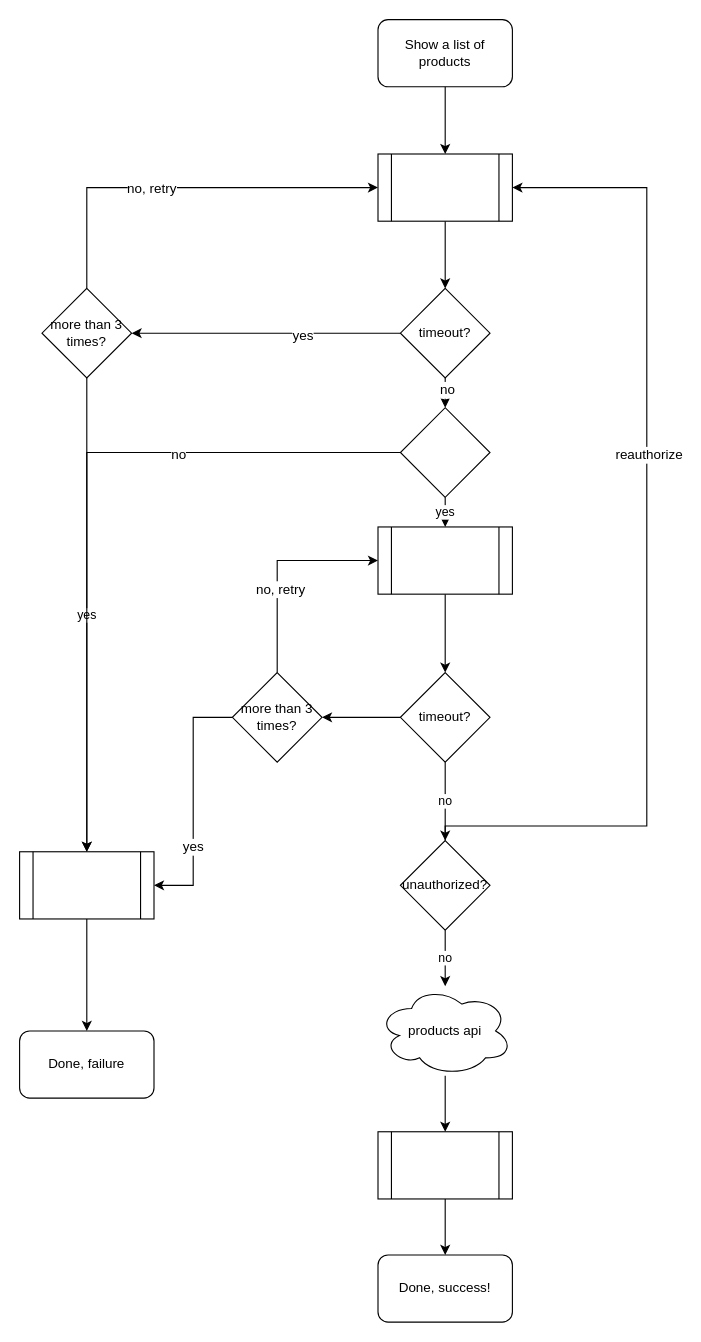
Some shapes in this 701 by 1342 pixel diagram are drawn without their labels. The shapes that lost their labels are listed below. From the top down, each one's centre as x and y in pixels, then its label:
At point (444, 187): "Authorize".
At point (444, 452): "authorized?".
At point (444, 560): "Get Products".
At point (86, 885): "write logs, throw exception".
At point (444, 1165): "show products".
